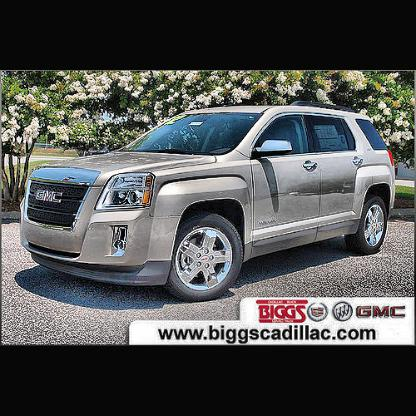GMC Terrain SUV 2012: (19, 101, 400, 297)
